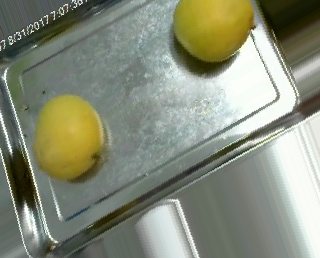Mango: (31, 93, 106, 180), (166, 1, 260, 59)
